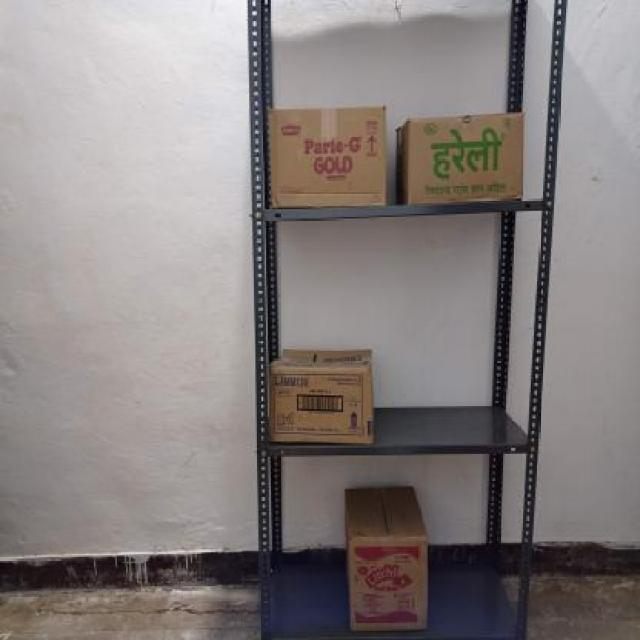box: (268, 104, 388, 210), (408, 111, 527, 204), (270, 366, 372, 448), (352, 536, 428, 632)
